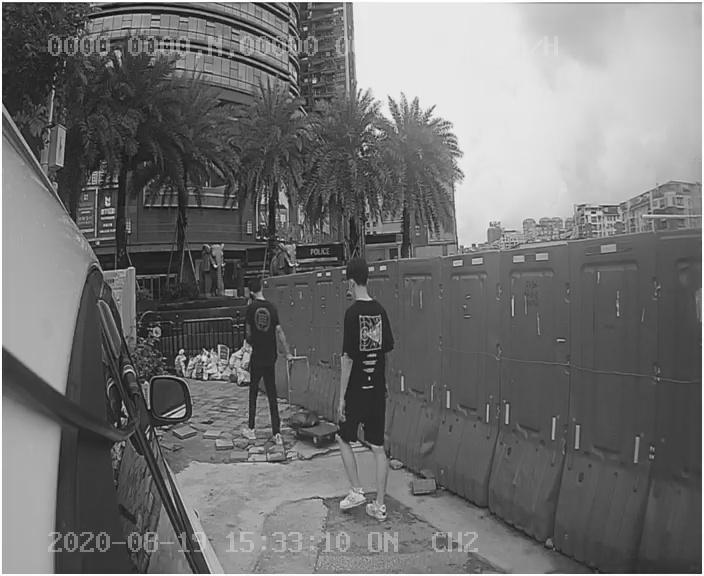person: (325, 263, 419, 524), (232, 280, 303, 457)
